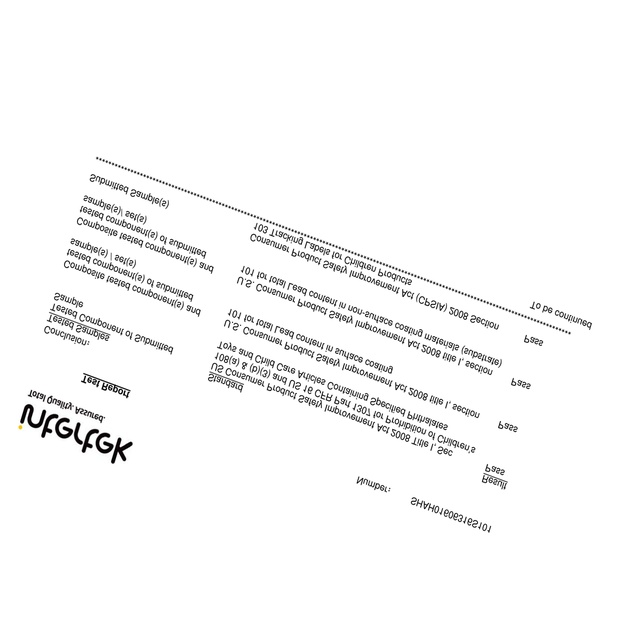intertek: (13, 383, 138, 476)
